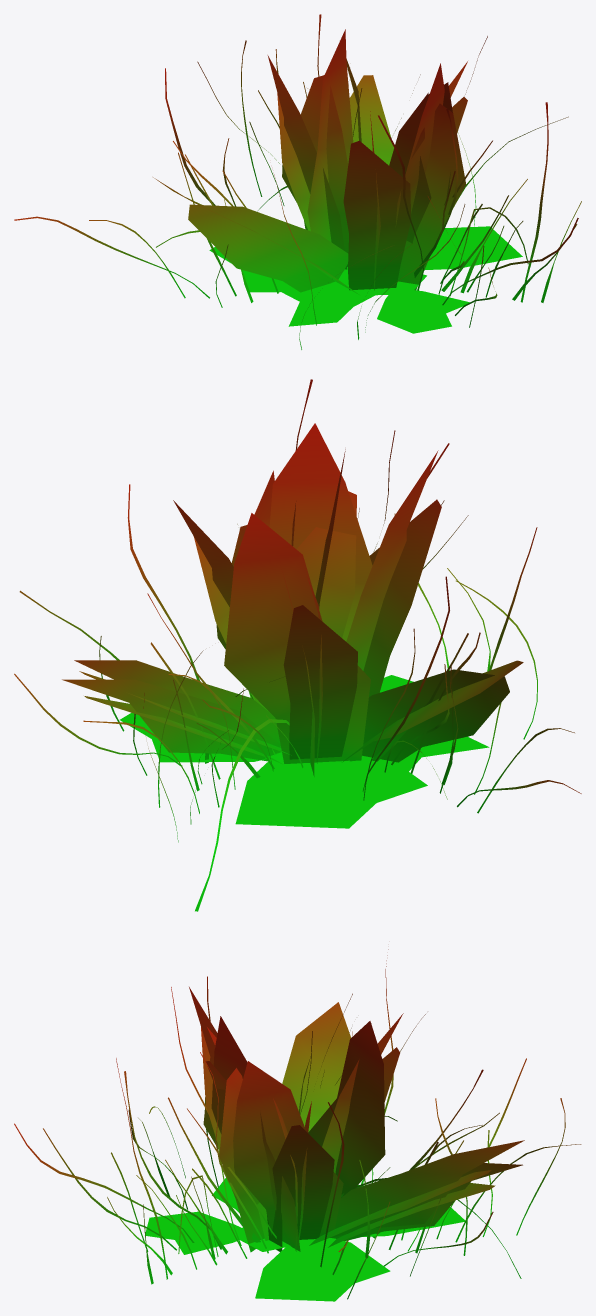
The model's file is uddmcgbia_Var11_LOD0.fbx.
The picture shows the model from 3 angles, top to bottom: view 1: azimuth 30°, elevation 25°; view 2: azimuth 150°, elevation 25°; view 3: azimuth 270°, elevation 25°; orthographic projection. The views are drawn at different scales.
Visible parts, largest first — view 1: _0821_Var11_LOD0; view 2: _0821_Var11_LOD0; view 3: _0821_Var11_LOD0.
Boxes of the visible parts, bbox=[...] form: _0821_Var11_LOD0: bbox=[14, 14, 581, 349]; _0821_Var11_LOD0: bbox=[14, 379, 581, 911]; _0821_Var11_LOD0: bbox=[14, 949, 581, 1301].
Size of the model in its own units: 18.97 by 10.1 by 18.05.
